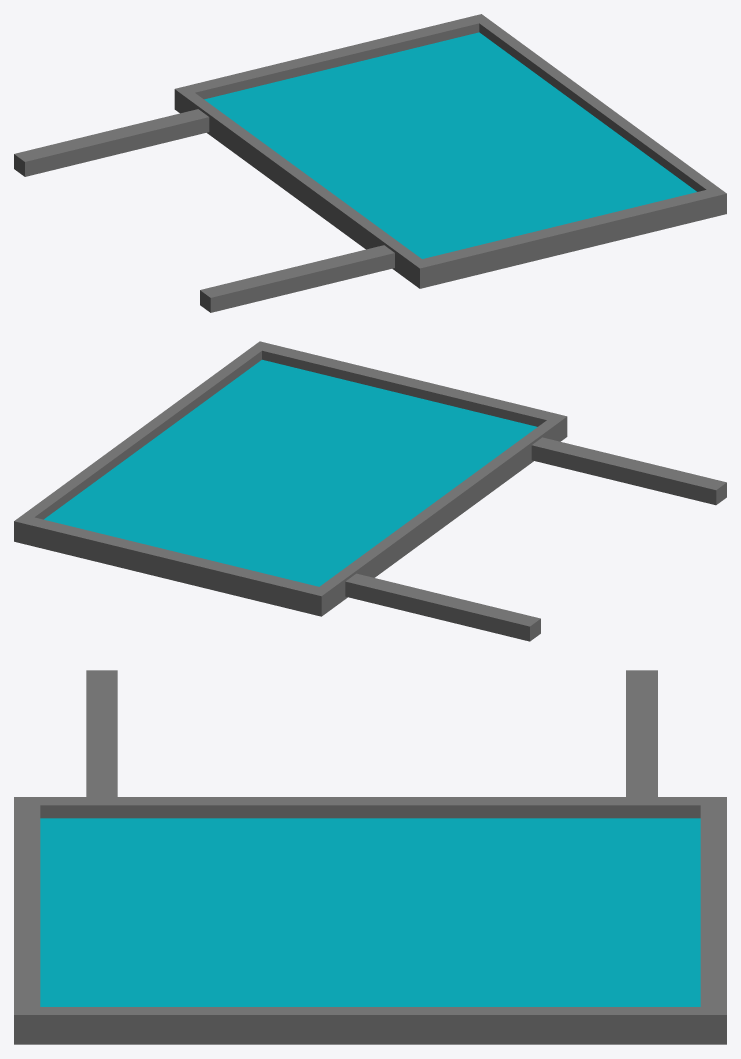
The model's file is Bannar 01.FBX.
The picture shows the model from 3 angles, top to bottom: view 1: azimuth 30°, elevation 25°; view 2: azimuth 150°, elevation 25°; view 3: azimuth 270°, elevation 25°; orthographic projection. The views are drawn at different scales.
Visible parts, largest first — view 1: Box001; view 2: Box001; view 3: Box001.
Boxes of the visible parts, x1,y1,x2,y2 form: Box001: (14,14,726,312); Box001: (14,341,726,641); Box001: (14,670,726,1044).
Size of the model in its own units: 92.01 by 3.66 by 79.58.
